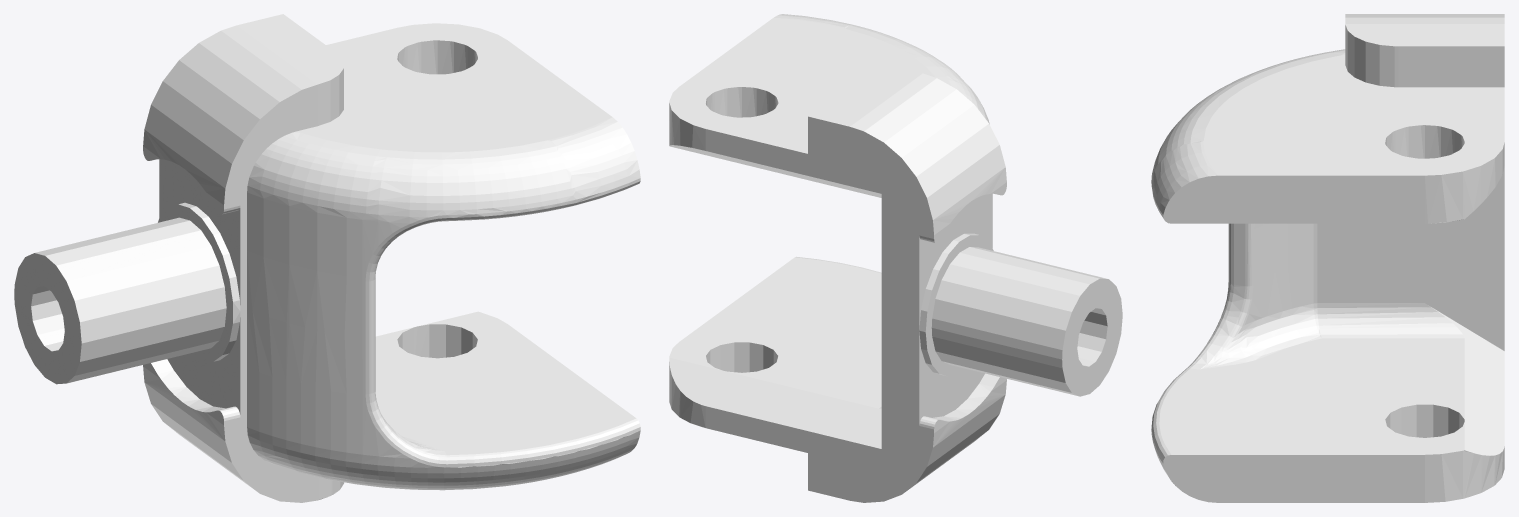
The model's file is lh_middle_metacarpals_vis.obj.
The picture shows the model from 3 angles, left to right: view 1: azimuth 30°, elevation 25°; view 2: azimuth 150°, elevation 25°; view 3: azimuth 270°, elevation 25°; orthographic projection. The views are drawn at different scales.
Parts seen in each view (by area): view 1: lh_middle_metacarpals; view 2: lh_middle_metacarpals; view 3: lh_middle_metacarpals.
Part boxes in pixels (x1=…): lh_middle_metacarpals: x1=14, y1=14, x2=640, y2=502; lh_middle_metacarpals: x1=669, y1=14, x2=1122, y2=502; lh_middle_metacarpals: x1=1151, y1=14, x2=1504, y2=502.
Bounding box in the file's own units: 0.0197 × 0.017 × 0.0133.
1 material, 1 textured.
